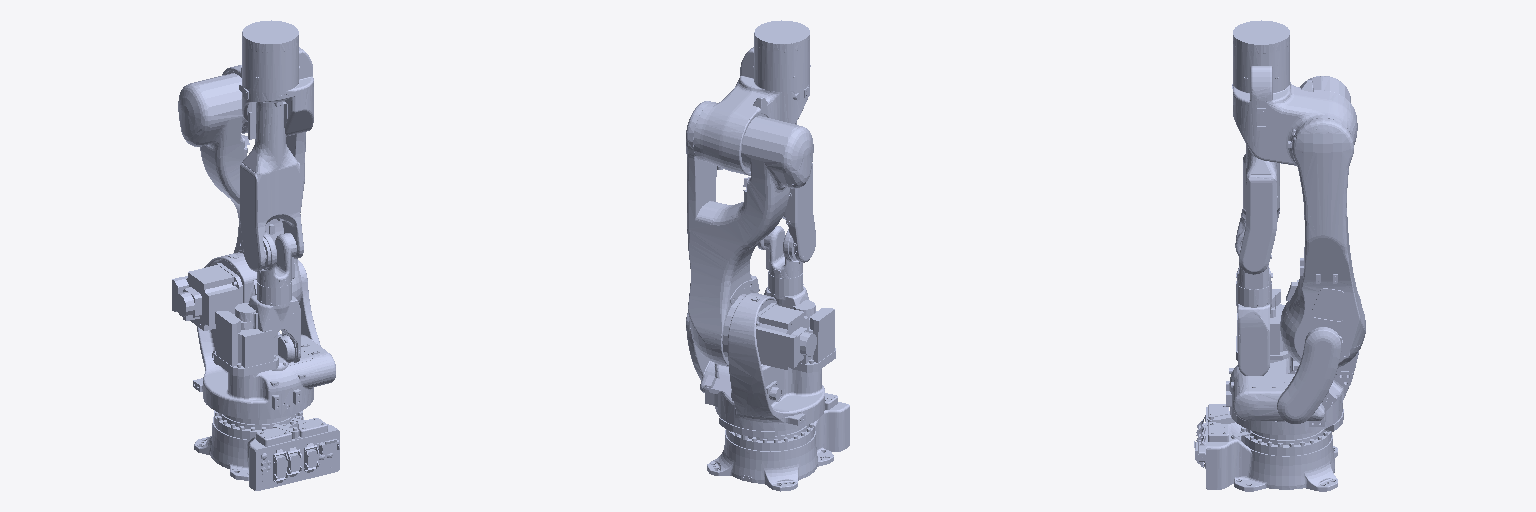
URDF robot description (BU015X):
<?xml version="1.0" encoding="utf-8"?>
<!-- This URDF was automatically created by SolidWorks to URDF Exporter! Originally created by [author] ([email redacted]) 
     Commit Version: 1.6.0-4-g7f85cfe  Build Version: 1.6.7995.38578
     For more information, please see http://wiki.ros.org/sw_urdf_exporter -->
<robot
  name="BU015X">
  <link
    name="base_link">
    <inertial>
      <origin
        xyz="4.7813E-05 -0.0744 0.10814"
        rpy="0 0 0" />
      <mass
        value="294.63" />
      <inertia
        ixx="7.1637"
        ixy="-0.0015873"
        ixz="-0.0030213"
        iyy="4.1926"
        iyz="-0.081824"
        izz="8.7241" />
    </inertial>
    <visual>
      <origin
        xyz="0 0 0"
        rpy="0 0 0" />
      <geometry>
        <mesh
          filename="package://BU015X/meshes/base_link.STL" />
      </geometry>
      <material
        name="">
        <color
          rgba="0.79216 0.81961 0.93333 1" />
      </material>
    </visual>
    <collision>
      <origin
        xyz="0 0 0"
        rpy="0 0 0" />
      <geometry>
        <mesh
          filename="package://BU015X/meshes/base_link.STL" />
      </geometry>
    </collision>
  </link>
  <link
    name="link1">
    <inertial>
      <origin
        xyz="-0.0022141 0.039151 0.2377"
        rpy="0 0 0" />
      <mass
        value="503.97" />
      <inertia
        ixx="21.028"
        ixy="0.067875"
        ixz="2.3911"
        iyy="20.401"
        iyz="-3.8727"
        izz="16.827" />
    </inertial>
    <visual>
      <origin
        xyz="0 0 0"
        rpy="0 0 0" />
      <geometry>
        <mesh
          filename="package://BU015X/meshes/link1.STL" />
      </geometry>
      <material
        name="">
        <color
          rgba="0.79216 0.81961 0.93333 1" />
      </material>
    </visual>
    <collision>
      <origin
        xyz="0 0 0"
        rpy="0 0 0" />
      <geometry>
        <mesh
          filename="package://BU015X/meshes/link1.STL" />
      </geometry>
    </collision>
  </link>
  <joint
    name="joint1"
    type="revolute">
    <origin
      xyz="-5.9843E-05 0.00011745 0.246"
      rpy="0 0 0" />
    <parent
      link="base_link" />
    <child
      link="link1" />
    <axis
      xyz="0 0 1" />
    <limit
      lower="0"
      upper="0"
      effort="0"
      velocity="0" />
  </joint>
  <link
    name="link2">
    <inertial>
      <origin
        xyz="-0.40345 0.0063894 0.072558"
        rpy="0 0 0" />
      <mass
        value="455.02" />
      <inertia
        ixx="10.111"
        ixy="-0.1466"
        ixz="-9.9335"
        iyy="60.841"
        iyz="-0.15034"
        izz="54.541" />
    </inertial>
    <visual>
      <origin
        xyz="0 0 0"
        rpy="0 0 0" />
      <geometry>
        <mesh
          filename="package://BU015X/meshes/link2.STL" />
      </geometry>
      <material
        name="">
        <color
          rgba="0.79216 0.81961 0.93333 1" />
      </material>
    </visual>
    <collision>
      <origin
        xyz="0 0 0"
        rpy="0 0 0" />
      <geometry>
        <mesh
          filename="package://BU015X/meshes/link2.STL" />
      </geometry>
    </collision>
  </link>
  <joint
    name="joint2"
    type="revolute">
    <origin
      xyz="-0.0094402 0.14988 0.431"
      rpy="0 1.5708 0" />
    <parent
      link="link1" />
    <child
      link="link2" />
    <axis
      xyz="0 0 1" />
    <limit
      lower="0"
      upper="0"
      effort="0"
      velocity="0" />
  </joint>
  <link
    name="link3">
    <inertial>
      <origin
        xyz="-0.109931968952137 -0.146481176429869 0.0734344535065873"
        rpy="0 0 0" />
      <mass
        value="272.157685657569" />
      <inertia
        ixx="6.23697819701919"
        ixy="-2.96675690683172"
        ixz="-1.39865393047907"
        iyy="6.9932105801827"
        iyz="-0.870152019669887"
        izz="10.0304642843794" />
    </inertial>
    <visual>
      <origin
        xyz="0 0 0"
        rpy="0 0 0" />
      <geometry>
        <mesh
          filename="package://BU015X/meshes/link3.STL" />
      </geometry>
      <material
        name="">
        <color
          rgba="0.792156862745098 0.819607843137255 0.933333333333333 1" />
      </material>
    </visual>
    <collision>
      <origin
        xyz="0 0 0"
        rpy="0 0 0" />
      <geometry>
        <mesh
          filename="package://BU015X/meshes/link3.STL" />
      </geometry>
    </collision>
  </link>
  <joint
    name="joint3"
    type="revolute">
    <origin
      xyz="-0.87 0 -0.0005"
      rpy="0 0 0" />
    <parent
      link="link2" />
    <child
      link="link3" />
    <axis
      xyz="0 0 1" />
    <limit
      lower="0"
      upper="0"
      effort="0"
      velocity="0" />
  </joint>
  <link
    name="link4">
    <inertial>
      <origin
        xyz="-0.00193255343266522 0.00166422271790631 0.469054683594162"
        rpy="0 0 0" />
      <mass
        value="160.702525787287" />
      <inertia
        ixx="15.1030287085768"
        ixy="0.00235046701173395"
        ixz="0.104757800980443"
        iyy="15.3755193196389"
        iyz="-0.130750762379144"
        izz="0.825033270991997" />
    </inertial>
    <visual>
      <origin
        xyz="0 0 0"
        rpy="0 0 0" />
      <geometry>
        <mesh
          filename="package://BU015X/meshes/link4.STL" />
      </geometry>
      <material
        name="">
        <color
          rgba="0.792156862745098 0.819607843137255 0.933333333333333 1" />
      </material>
    </visual>
    <collision>
      <origin
        xyz="0 0 0"
        rpy="0 0 0" />
      <geometry>
        <mesh
          filename="package://BU015X/meshes/link4.STL" />
      </geometry>
    </collision>
  </link>
  <joint
    name="joint4"
    type="revolute">
    <origin
      xyz="-0.407 -0.25 0.0099999"
      rpy="3.1416 -1.5708 0" />
    <parent
      link="link3" />
    <child
      link="link4" />
    <axis
      xyz="0 0 1" />
    <limit
      lower="0"
      upper="0"
      effort="0"
      velocity="0" />
  </joint>
  <link
    name="link7">
    <inertial>
      <origin
        xyz="-0.229992657387358 6.50020742139212E-06 0.0716422143342171"
        rpy="0 0 0" />
      <mass
        value="63.5415872023697" />
      <inertia
        ixx="0.265674043685254"
        ixy="4.67562963577455E-05"
        ixz="-0.00419844751125186"
        iyy="1.40232294495365"
        iyz="-0.00145834311491958"
        izz="1.3015549240195" />
    </inertial>
    <visual>
      <origin
        xyz="0 0 0"
        rpy="0 0 0" />
      <geometry>
        <mesh
          filename="package://BU015X/meshes/link7.STL" />
      </geometry>
      <material
        name="">
        <color
          rgba="0.792156862745098 0.819607843137255 0.933333333333333 1" />
      </material>
    </visual>
    <collision>
      <origin
        xyz="0 0 0"
        rpy="0 0 0" />
      <geometry>
        <mesh
          filename="package://BU015X/meshes/link7.STL" />
      </geometry>
    </collision>
  </link>
  <joint
    name="joint7"
    type="revolute">
    <origin
      xyz="-0.0729 0.03 0.973"
      rpy="0 1.5708 0" />
    <parent
      link="link4" />
    <child
      link="link7" />
    <axis
      xyz="0 0 1" />
    <limit
      lower="0"
      upper="0"
      effort="0"
      velocity="0" />
  </joint>
  <link
    name="link5">
    <inertial>
      <origin
        xyz="-0.0300812019090149 2.71730092123446E-05 0.073506977914761"
        rpy="0 0 0" />
      <mass
        value="8.22954379686483" />
      <inertia
        ixx="0.0209225216693337"
        ixy="4.65009824349627E-06"
        ixz="-0.00273440406878831"
        iyy="0.0254053630458686"
        iyz="6.34555967770372E-06"
        izz="0.0177295803783871" />
    </inertial>
    <visual>
      <origin
        xyz="0 0 0"
        rpy="0 0 0" />
      <geometry>
        <mesh
          filename="package://BU015X/meshes/link5.STL" />
      </geometry>
      <material
        name="">
        <color
          rgba="0.792156862745098 0.819607843137255 0.933333333333333 1" />
      </material>
    </visual>
    <collision>
      <origin
        xyz="0 0 0"
        rpy="0 0 0" />
      <geometry>
        <mesh
          filename="package://BU015X/meshes/link5.STL" />
      </geometry>
    </collision>
  </link>
  <joint
    name="joint5"
    type="revolute">
    <origin
      xyz="-0.47 0 0.0089"
      rpy="0 0 0" />
    <parent
      link="link7" />
    <child
      link="link5" />
    <axis
      xyz="0 0 1" />
    <limit
      lower="0"
      upper="0"
      effort="0"
      velocity="0" />
  </joint>
  <link
    name="link6">
    <inertial>
      <origin
        xyz="-3.44973310415908E-05 4.30434715648076E-10 0.00689131755656502"
        rpy="0 0 0" />
      <mass
        value="0.408307825192338" />
      <inertia
        ixx="0.000214218420085608"
        ixy="4.84513503046898E-12"
        ixz="1.64979961705214E-08"
        iyy="0.000217290843621419"
        iyz="3.816679735521E-12"
        izz="0.000413443088920908" />
    </inertial>
    <visual>
      <origin
        xyz="0 0 0"
        rpy="0 0 0" />
      <geometry>
        <mesh
          filename="package://BU015X/meshes/link6.STL" />
      </geometry>
      <material
        name="">
        <color
          rgba="0.792156862745098 0.819607843137255 0.933333333333333 1" />
      </material>
    </visual>
    <collision>
      <origin
        xyz="0 0 0"
        rpy="0 0 0" />
      <geometry>
        <mesh
          filename="package://BU015X/meshes/link6.STL" />
      </geometry>
    </collision>
  </link>
  <joint
    name="joint6"
    type="revolute">
    <origin
      xyz="-0.084209 0 0.064"
      rpy="3.1416 -1.5708 0" />
    <parent
      link="link5" />
    <child
      link="link6" />
    <axis
      xyz="0 0 1" />
    <limit
      lower="0"
      upper="0"
      effort="0"
      velocity="0" />
  </joint>
</robot>

--- What the picture shows (computed from the rendered views, not written in the file) ---
Views: 3 orthographic renders of the robot side by side, from view 1: azimuth 30°, elevation 25°; view 2: azimuth 150°, elevation 25°; view 3: azimuth 270°, elevation 25°.
Model BU015X with 8 links and 7 joints (7 revolute), rooted at base_link, posed all joints at 0.
Visible links, largest first — view 1: link1, base_link, link4, link2, link3, link7; view 2: link2, link1, link3, base_link, link4, link7; view 3: link2, link1, link3, base_link, link4, link7.
Link boxes in pixels (x1,y1,x2,y2): link1: (172, 252, 335, 419); base_link: (194, 410, 339, 490); link4: (240, 21, 303, 271); link2: (178, 73, 305, 302); link3: (222, 20, 313, 139); link7: (248, 233, 300, 362); link2: (686, 101, 813, 366); link1: (686, 293, 835, 439); link3: (693, 20, 810, 175); base_link: (707, 393, 849, 491); link4: (754, 23, 815, 262); link7: (764, 226, 808, 308); link2: (1280, 76, 1365, 367); link1: (1226, 280, 1361, 434); link3: (1232, 20, 1357, 165); base_link: (1194, 404, 1337, 491); link4: (1233, 23, 1289, 274); link7: (1235, 230, 1272, 375).
Size in the robot's own frame: 0.579 by 0.6953 by 1.96 metres.
8 mesh visuals loaded from 8 distinct referenced files (8 binary STL).